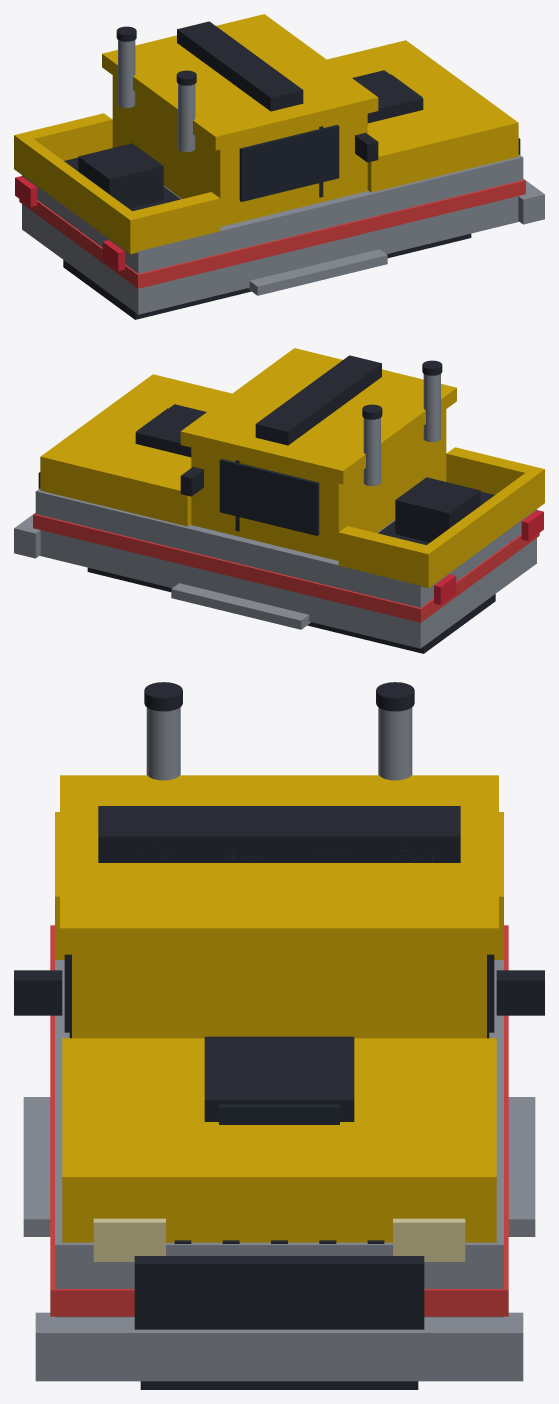
The model's file is truck.glb.
3 views of the same model, one above another, from view 1: azimuth 30°, elevation 25°; view 2: azimuth 150°, elevation 25°; view 3: azimuth 270°, elevation 25° (orthographic). The views are drawn at different scales.
Size of the model in its own units: 3.84 by 2 by 2.2.
